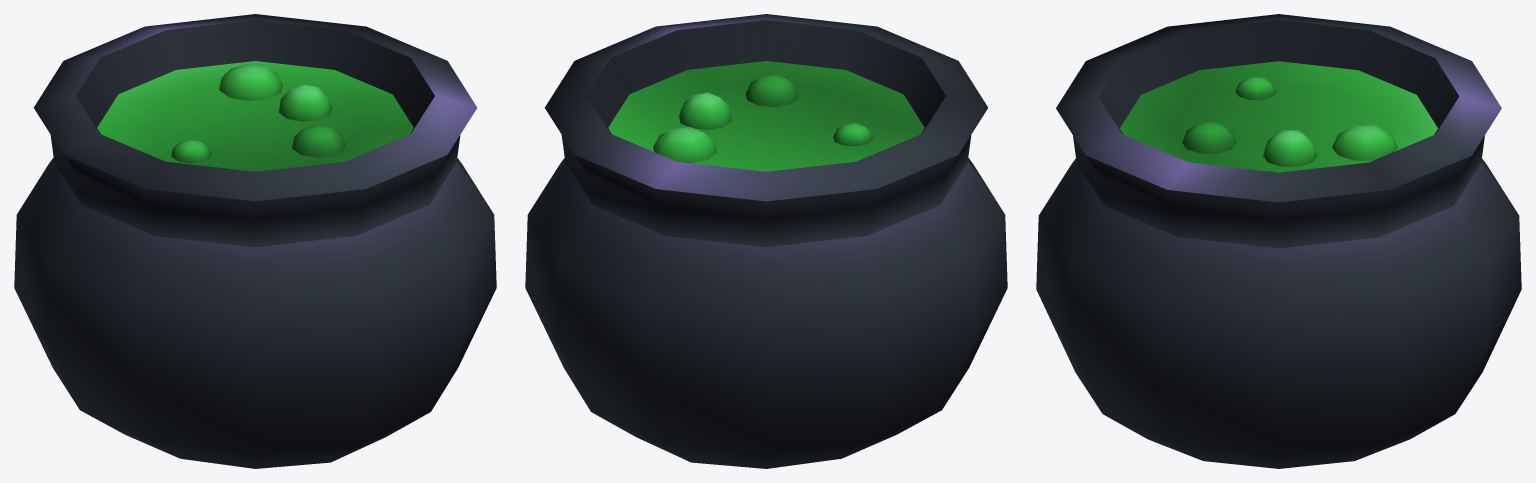
Rendered from undead_cauldron_lv1.fbx.
3 views of the same model, side by side, from view 1: azimuth 30°, elevation 25°; view 2: azimuth 150°, elevation 25°; view 3: azimuth 270°, elevation 25° (orthographic).
Parts seen in each view (by area): view 1: undead_cauldron; view 2: undead_cauldron; view 3: undead_cauldron.
Boxes of the visible parts, x1,y1,x2,y2 form: undead_cauldron: (14, 14, 496, 468); undead_cauldron: (525, 14, 1007, 468); undead_cauldron: (1036, 14, 1521, 468).
Bounding box in the file's own units: 289 × 289 × 222.
